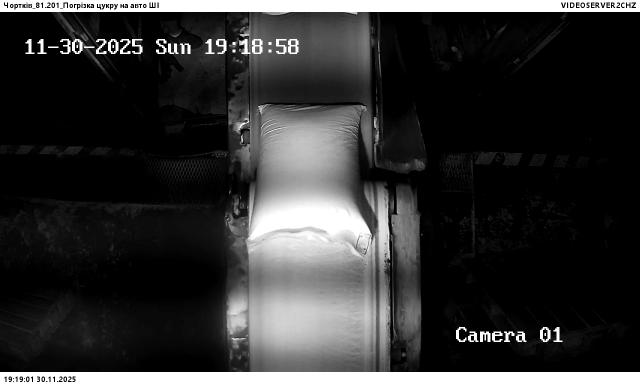bag: (248, 104, 372, 259)
